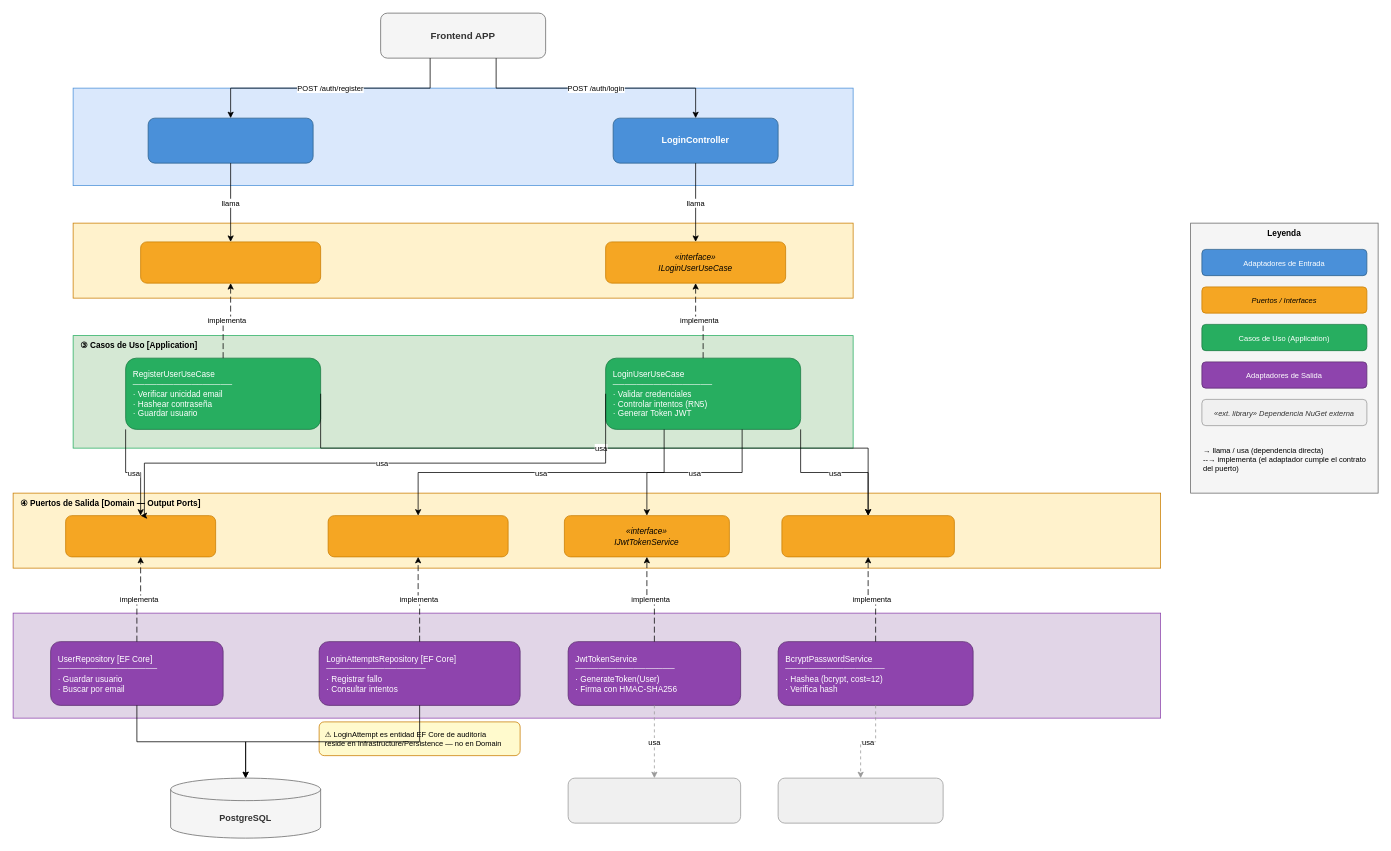
Image size: 1391x851. Some labels were removed from this diagram. Each missing label, with the box of its shape:
RegisterController: (147, 117, 313, 163)
«ext. library» BCrypt.Net-Next: (777, 777, 943, 823)
«ext. library» Microsoft.IdentityModel.Tokens (System.IdentityModel.Tokens.Jwt): (567, 777, 741, 823)
«interface» ILoginAttemptsRepository: (327, 515, 508, 557)
«interface» IPasswordHashingService: (781, 515, 954, 557)
«interface» IRegisterUserUseCase: (140, 241, 321, 283)
«interface» IUserRepository: (65, 515, 216, 557)
① Adaptadores de Entrada [Infrastructure — Driving]: (72, 87, 853, 186)
② Puertos de Entrada [Application — Input Ports]: (72, 222, 853, 298)
⑤ Adaptadores de Salida [Infrastructure — Driven]: (12, 612, 1161, 718)
